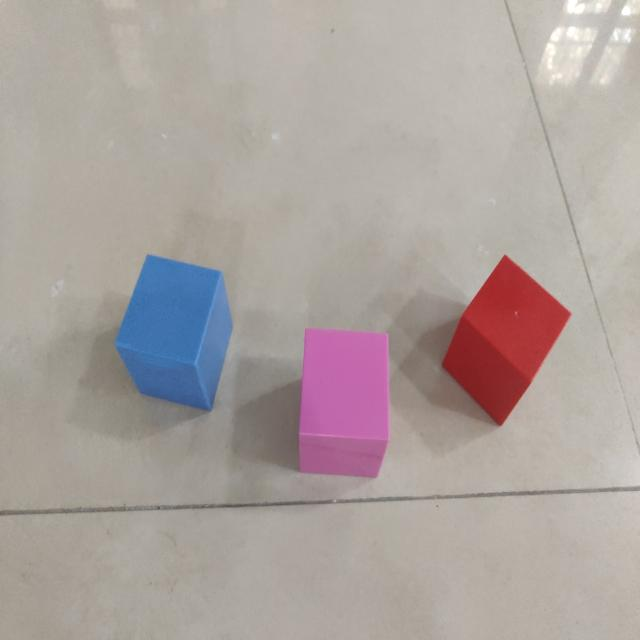blue: (114, 255, 233, 415)
pink: (297, 329, 390, 481)
red: (441, 258, 571, 427)
